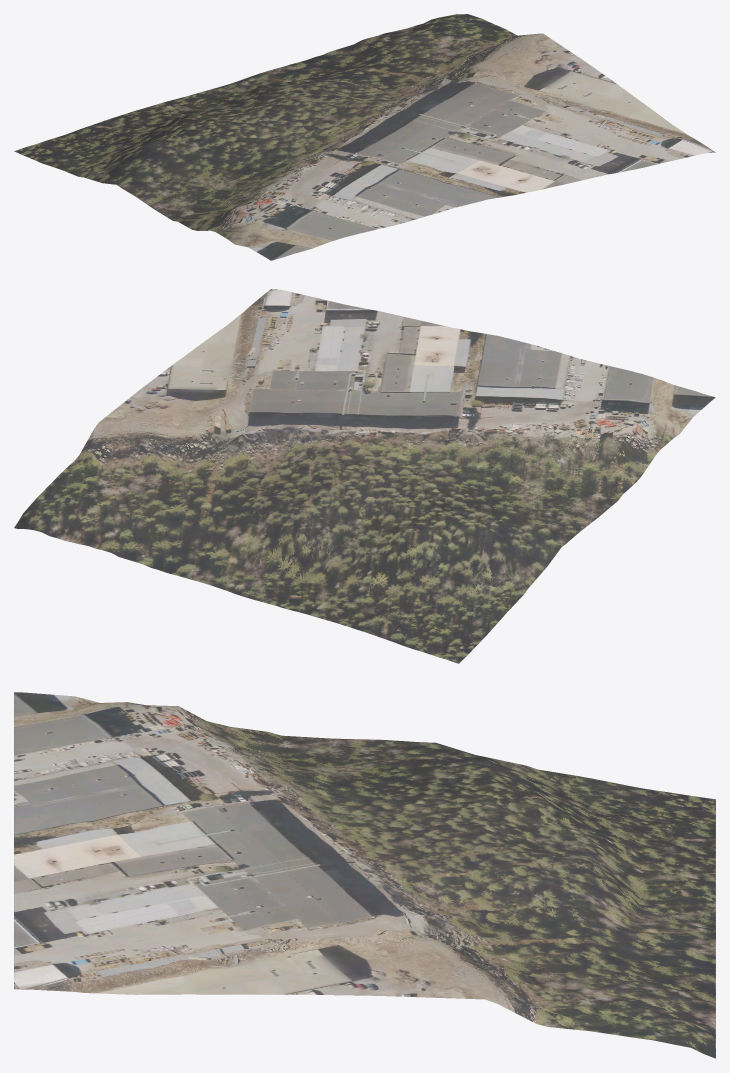
File: CM_Terrain_24492302_6816722.fbx
3 renders of one model, top to bottom at view 1: azimuth 30°, elevation 25°; view 2: azimuth 150°, elevation 25°; view 3: azimuth 270°, elevation 25°, orthographic. The views are drawn at different scales.
Parts seen in each view (by area): view 1: CM_Terrain_24492302_6816722_LOD0; view 2: CM_Terrain_24492302_6816722_LOD0; view 3: CM_Terrain_24492302_6816722_LOD0.
Boxes of the visible parts, bbox=[...] form: CM_Terrain_24492302_6816722_LOD0: bbox=[14, 14, 715, 260]; CM_Terrain_24492302_6816722_LOD0: bbox=[14, 289, 715, 663]; CM_Terrain_24492302_6816722_LOD0: bbox=[14, 692, 715, 1058].
Size of what is drawn, in the model's own units: 205 by 38.18 by 205.
